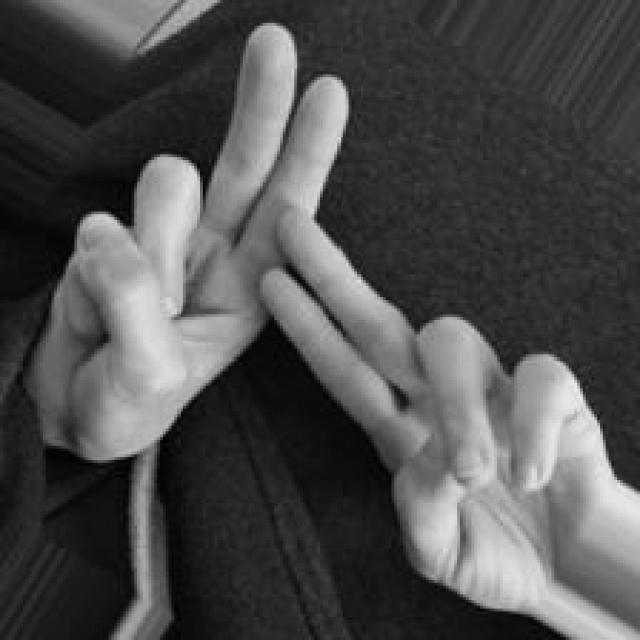K: (29, 21, 616, 616)
